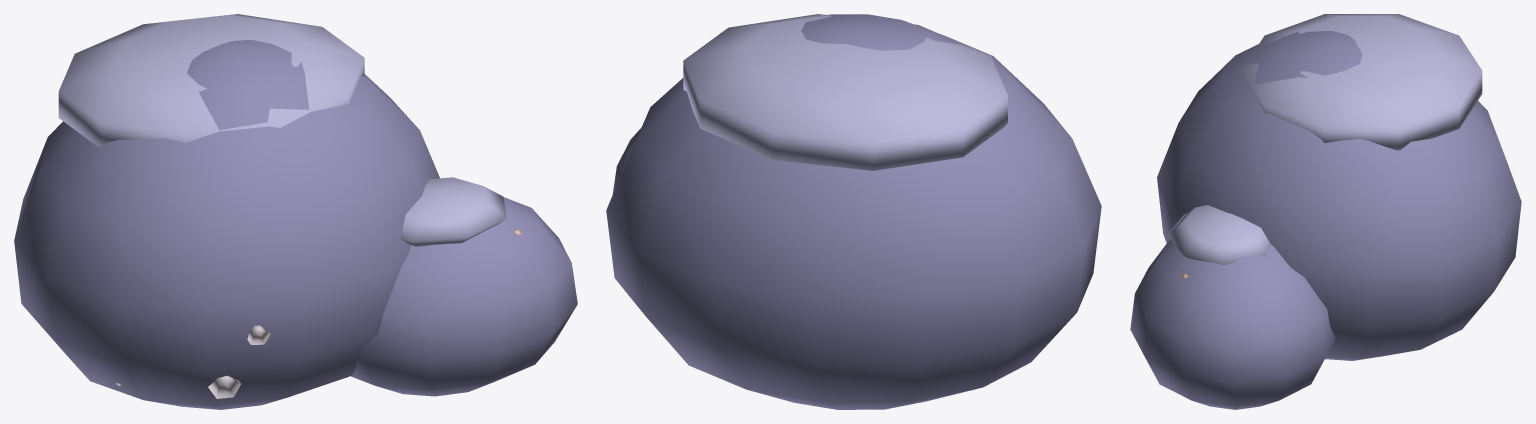
The model's file is beach_rock.glb.
3 views of the same model, side by side, from view 1: azimuth 30°, elevation 25°; view 2: azimuth 150°, elevation 25°; view 3: azimuth 270°, elevation 25° (orthographic). The views are drawn at different scales.
Parts seen in each view (by area): view 1: Rock; view 2: Rock; view 3: Rock.
Part boxes in pixels (x1,y1,x2,y2): Rock: (14,14,577,409); Rock: (606,14,1101,409); Rock: (1130,14,1521,409).
Size of the model in its own units: 0.9133 by 0.612 by 0.7423.
